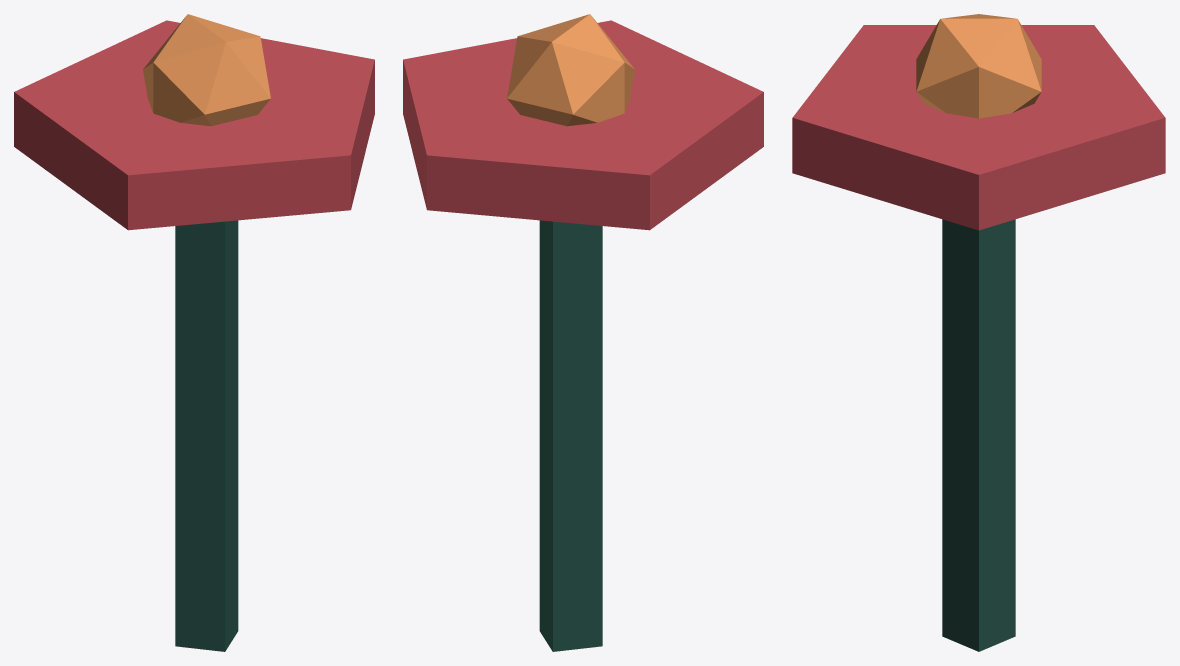
Rendered from flower.glb.
The picture shows the model from 3 angles, left to right: view 1: azimuth 30°, elevation 25°; view 2: azimuth 150°, elevation 25°; view 3: azimuth 270°, elevation 25°; orthographic projection.
Parts seen in each view (by area): view 1: Petals, Stalk, Heart; view 2: Petals, Stalk, Heart; view 3: Petals, Stalk, Heart.
Boxes of the visible parts, bbox=[...] form: Petals: bbox=[14, 20, 374, 230]; Stalk: bbox=[175, 220, 238, 651]; Heart: bbox=[143, 14, 270, 126]; Petals: bbox=[403, 20, 763, 230]; Stalk: bbox=[539, 220, 602, 651]; Heart: bbox=[507, 14, 634, 126]; Petals: bbox=[792, 25, 1165, 230]; Stalk: bbox=[942, 219, 1015, 651]; Heart: bbox=[916, 14, 1041, 118].
Bounding box in the file's own units: 0.2894 × 0.556 × 0.3043.
